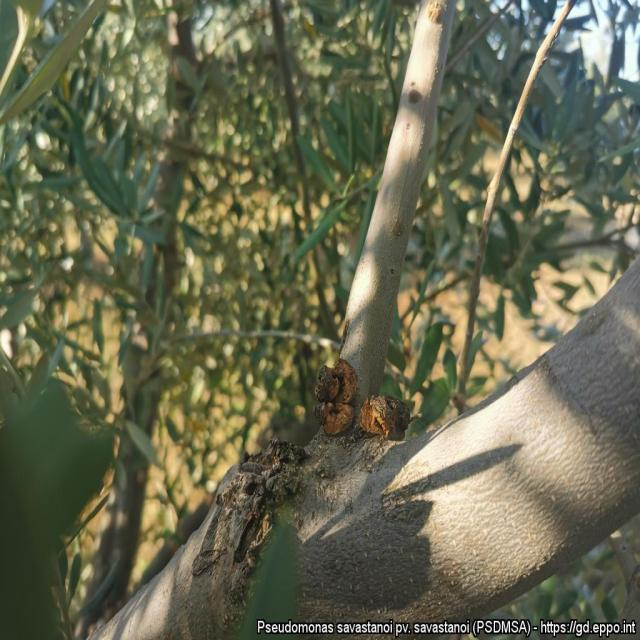Tuberculosis: (315, 358, 357, 436), (357, 395, 412, 439)
